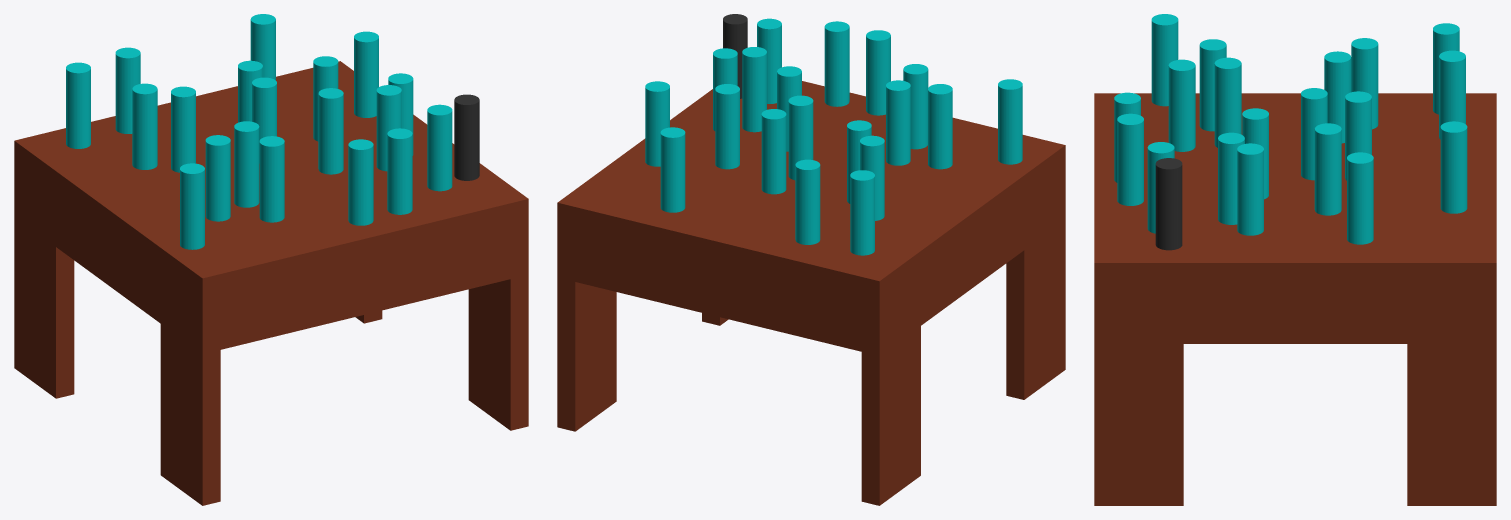
File: can_world_20_cans.dae
3 views of the same model, side by side, from view 1: azimuth 30°, elevation 25°; view 2: azimuth 150°, elevation 25°; view 3: azimuth 270°, elevation 25° (orthographic). The views are drawn at different scales.
Parts seen in each view (by area): view 1: base (×24); view 2: base (×24); view 3: base (×23).
Boxes of the visible parts, x1,y1,x2,y2 form: base (×24): [14, 14, 528, 505]; base (×24): [557, 14, 1065, 505]; base (×23): [1094, 14, 1496, 505].
Bounding box in the file's own units: 0.9 × 0.9 × 0.811.
